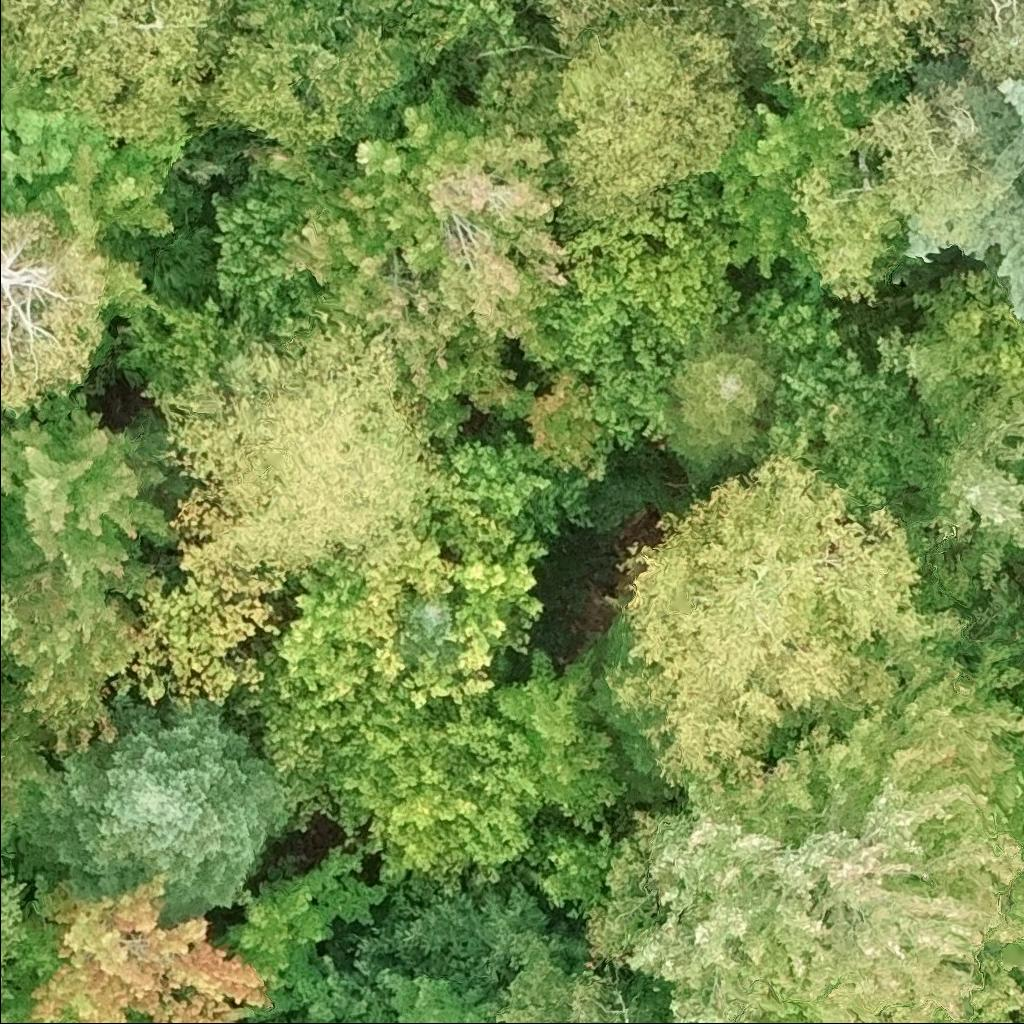crown: (585, 639, 1023, 1023), (597, 456, 969, 796), (245, 75, 578, 395), (139, 304, 452, 577), (10, 694, 299, 927), (499, 5, 755, 247), (548, 172, 742, 453), (325, 683, 546, 883), (0, 387, 194, 601), (9, 870, 275, 1023), (190, 0, 449, 155), (271, 523, 459, 726), (129, 481, 290, 711), (0, 0, 233, 148), (904, 57, 1023, 321), (716, 93, 873, 281), (18, 140, 179, 318), (0, 566, 141, 761), (485, 646, 631, 834), (209, 844, 390, 994), (745, 0, 960, 124), (0, 210, 110, 413), (854, 80, 988, 242), (661, 321, 784, 497), (443, 414, 600, 537), (203, 175, 322, 334), (783, 163, 909, 308), (733, 273, 865, 409), (252, 656, 361, 808), (420, 0, 549, 104), (0, 667, 58, 873), (450, 522, 551, 640), (115, 305, 254, 389), (494, 938, 626, 1023), (524, 366, 620, 481), (411, 468, 524, 562), (527, 0, 712, 54), (395, 617, 498, 709), (389, 586, 460, 671), (954, 0, 1023, 76), (0, 869, 35, 981), (0, 573, 19, 641), (707, 0, 753, 15), (1005, 458, 1023, 481), (1012, 683, 1023, 701), (1017, 641, 1023, 669), (0, 1011, 12, 1023), (146, 1021, 152, 1023), (1021, 752, 1023, 756)
